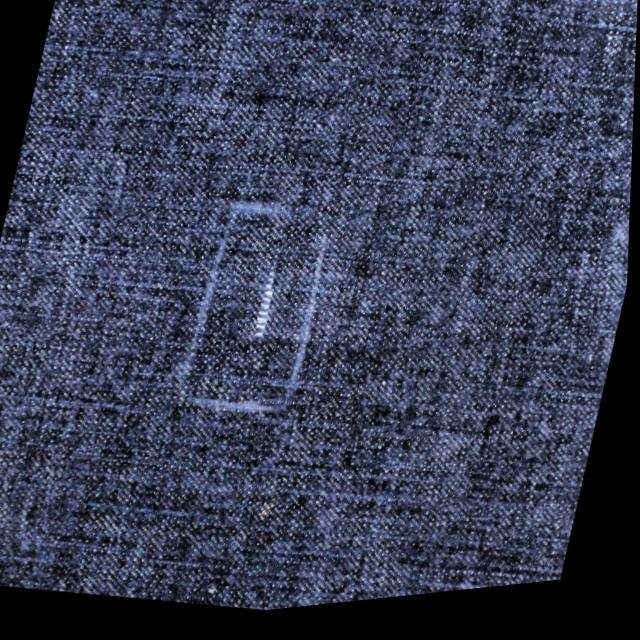Hole: (233, 256, 294, 360)
